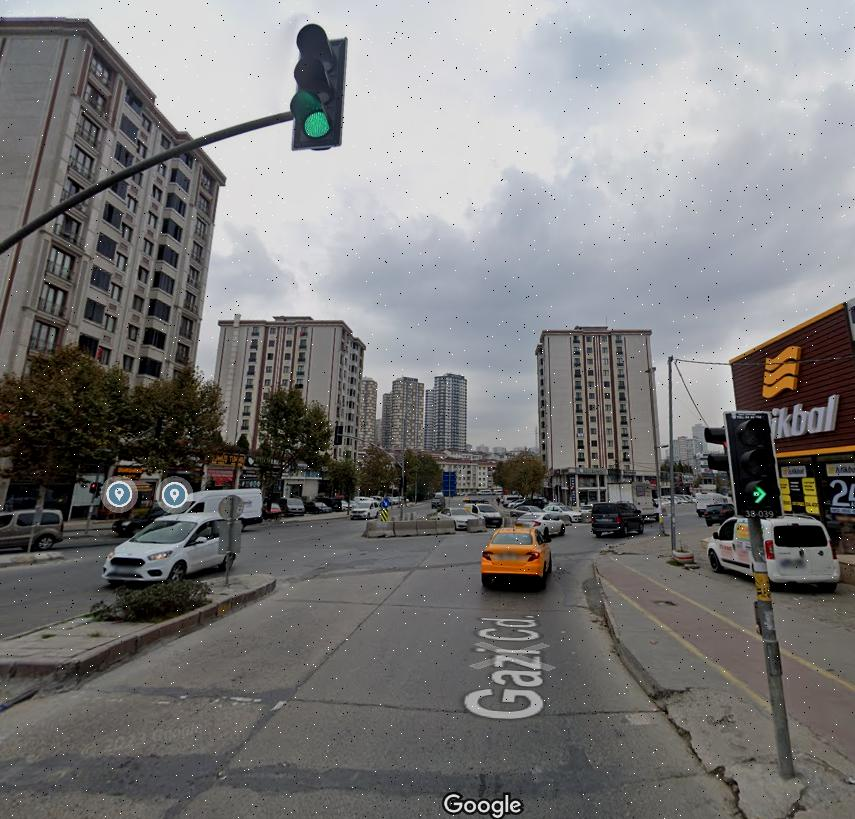greenlight: (290, 25, 346, 149), (728, 412, 784, 519)
